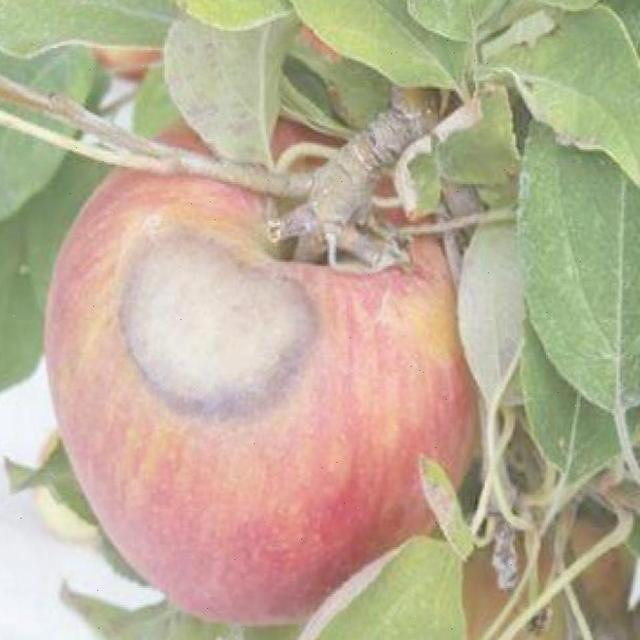Sunscald Fruit: (65, 150, 212, 286)
